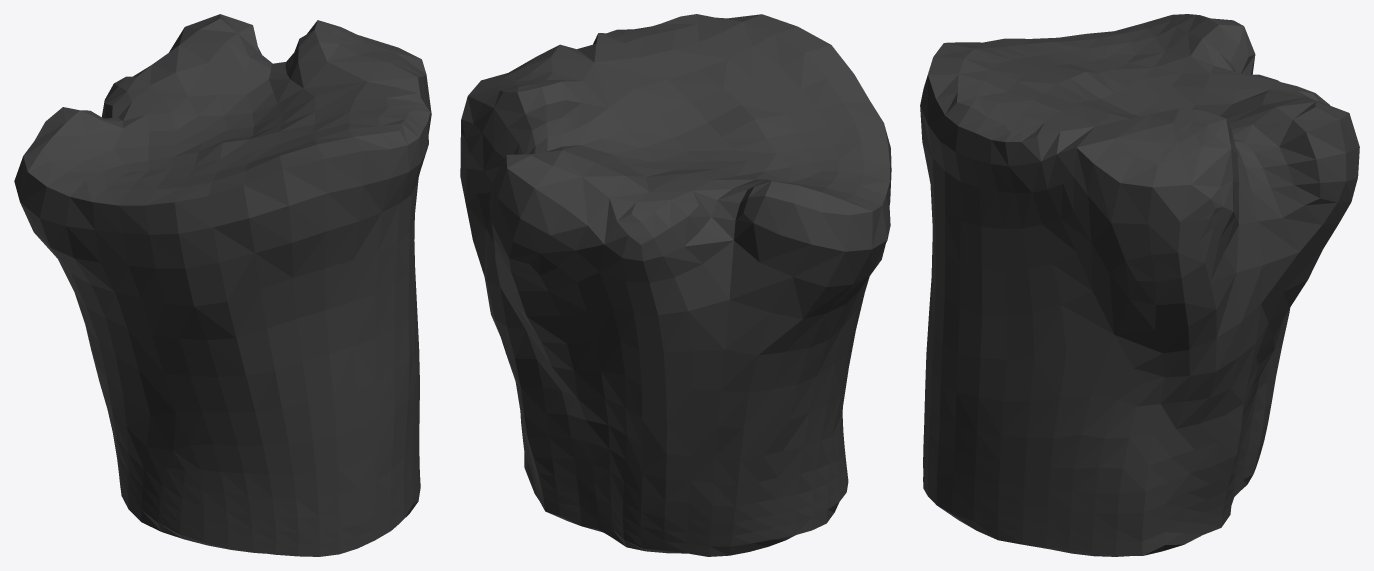
Rendered from Third_metatarsal.glb.
The picture shows the model from 3 angles, left to right: view 1: azimuth 30°, elevation 25°; view 2: azimuth 150°, elevation 25°; view 3: azimuth 270°, elevation 25°; orthographic projection. The views are drawn at different scales.
Parts seen in each view (by area): view 1: Third_metatarsal; view 2: Third_metatarsal; view 3: Third_metatarsal.
Boxes of the visible parts, left/top/right/bottom form: Third_metatarsal: left=14, top=14, right=431, bottom=556; Third_metatarsal: left=460, top=14, right=891, bottom=556; Third_metatarsal: left=920, top=14, right=1359, bottom=556.
Bounding box in the file's own units: 130 × 126 × 118.
1 material, 1 textured.
